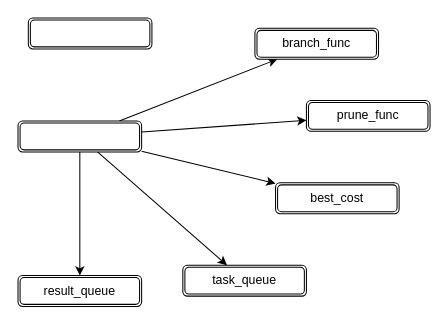
The diagram is 448 pixels wide and 324 high, and some of its shapes have lost their labels. The shapes that lost their labels are listed below. From the top down, each one's centre as x and y in pixels, then its label:
the point at 89,33: node
the point at 79,136: worker
